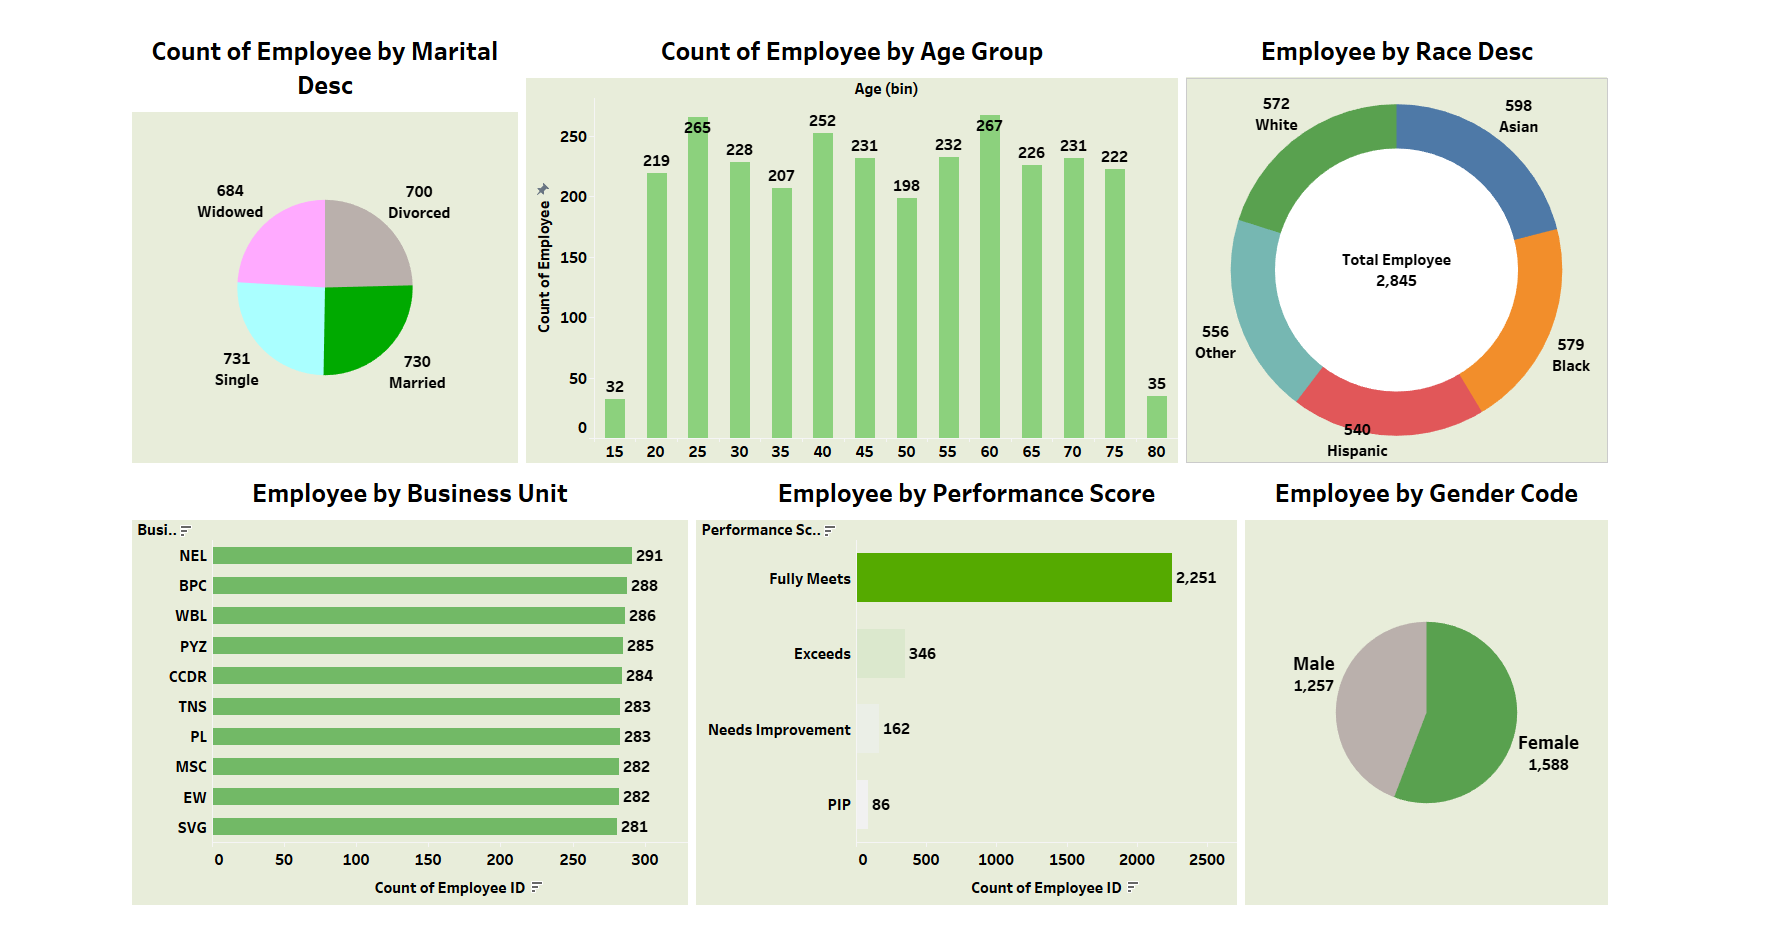

The dashboard page shown, as its layout file describes it:
{"tool":"tableau","page":{"name":"Count of Employee by Different Metrics","canvas":[1500,900],"ordinal":0},"visuals":[{"type":"worksheet","title":"Count of Employee by Marital Desc","mark":"Pie","box":[8,8,394,442]},{"type":"worksheet","title":"Count of Employee by Age Group","mark":"Bar","rows":["Employee ID"],"cols":["Age (bin)"],"box":[402,8,660,442]},{"type":"worksheet","title":"Count of Employee by Race Desc","mark":"Pie","rows":["Calculation_494551584586211328","Calculation_494551584586211328"],"box":[1062,8,430,442]},{"type":"worksheet","title":"Count of Employees in Each Business Unit","mark":"Automatic","rows":["BusinessUnit"],"cols":["Employee ID"],"box":[8,450,563.8,442]},{"type":"worksheet","title":"Count of Employees by Performance Score","mark":"Automatic","rows":["Performance Score"],"cols":["Employee ID"],"box":[571.8,450,549.2,442]},{"type":"worksheet","title":"Count of Employees by Gender Code","mark":"Pie","box":[1120.9,450,371.1,442]}]}

Visuals, with their boxes on the page's 1500x900 design canvas (x1, y1, x2, y2). These are canvas units, not pixel positions in the 1784x942 screenshot, which may show the page scaled, cropped or inside an application window:
"Count of Employee by Marital Desc" worksheet (Pie marks): <bbox>8, 8, 402, 450</bbox>
"Count of Employee by Age Group" worksheet (Bar marks): <bbox>402, 8, 1062, 450</bbox>
"Count of Employee by Race Desc" worksheet (Pie marks): <bbox>1062, 8, 1492, 450</bbox>
"Count of Employees in Each Business Unit" worksheet: <bbox>8, 450, 572, 892</bbox>
"Count of Employees by Performance Score" worksheet: <bbox>572, 450, 1121, 892</bbox>
"Count of Employees by Gender Code" worksheet (Pie marks): <bbox>1121, 450, 1492, 892</bbox>
